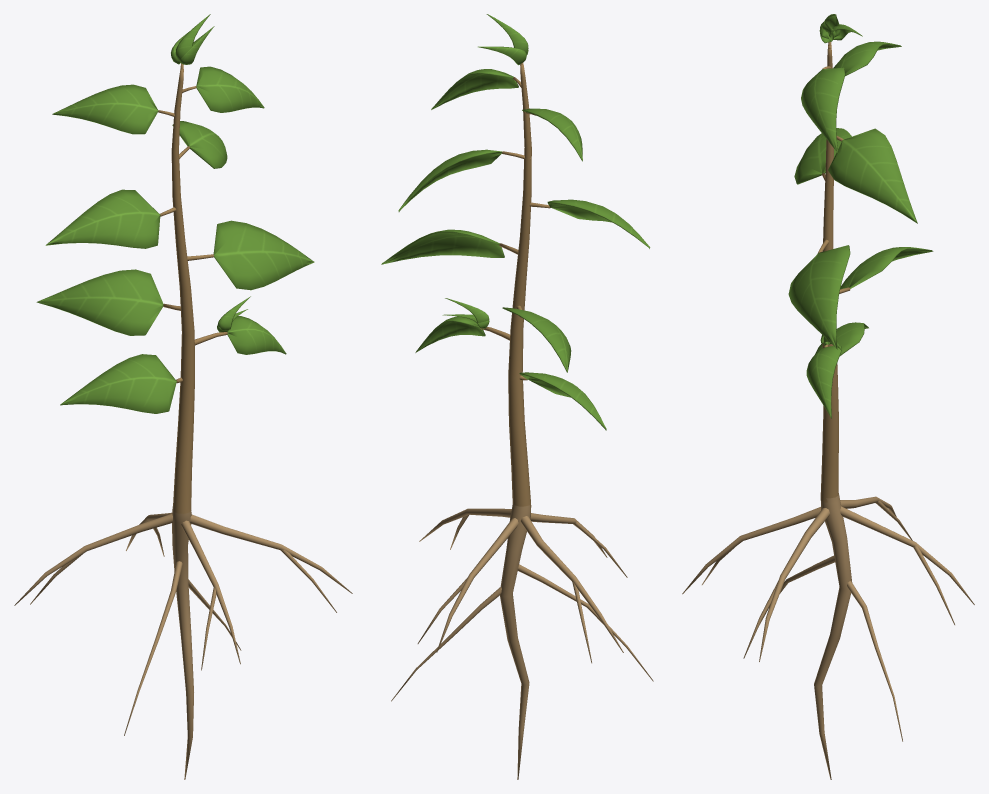
Rendered from Tree_Young_Simple_v01.fbx.
3 renders of one model, left to right at view 1: azimuth 30°, elevation 25°; view 2: azimuth 150°, elevation 25°; view 3: azimuth 270°, elevation 25°, orthographic. The views are drawn at different scales.
Visible parts, largest first — view 1: Foliage, Roots, Trunk_Branches; view 2: Foliage, Roots, Trunk_Branches; view 3: Foliage, Roots, Trunk_Branches.
Boxes of the visible parts, bbox=[...] form: Foliage: bbox=[36, 14, 314, 413]; Roots: bbox=[14, 505, 352, 779]; Trunk_Branches: bbox=[158, 63, 227, 513]; Foliage: bbox=[381, 14, 650, 430]; Roots: bbox=[391, 504, 653, 779]; Trunk_Branches: bbox=[480, 63, 550, 509]; Foliage: bbox=[788, 14, 933, 418]; Roots: bbox=[682, 493, 974, 779]; Trunk_Branches: bbox=[817, 42, 850, 502].
Bounding box in the file's own units: 0.4938 × 1.32 × 0.449.
